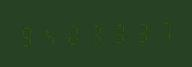four: (39, 21, 60, 48)
nine: (17, 22, 38, 48)
seven: (149, 18, 170, 44)
three: (127, 18, 148, 45), (83, 20, 104, 46), (105, 19, 126, 45)
zero: (61, 21, 82, 47)
